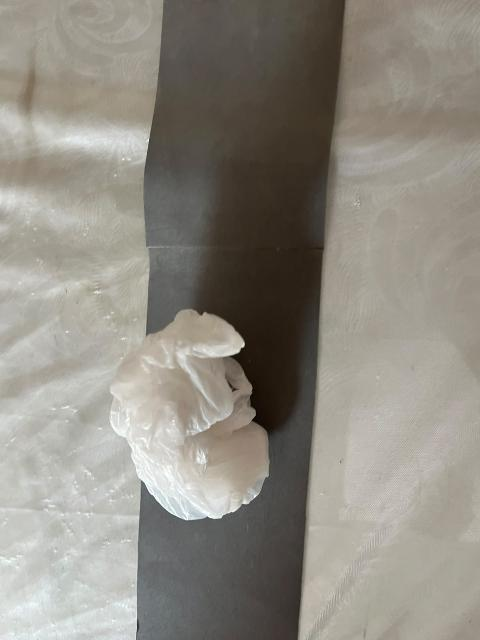LDPE: (85, 296, 317, 567)
